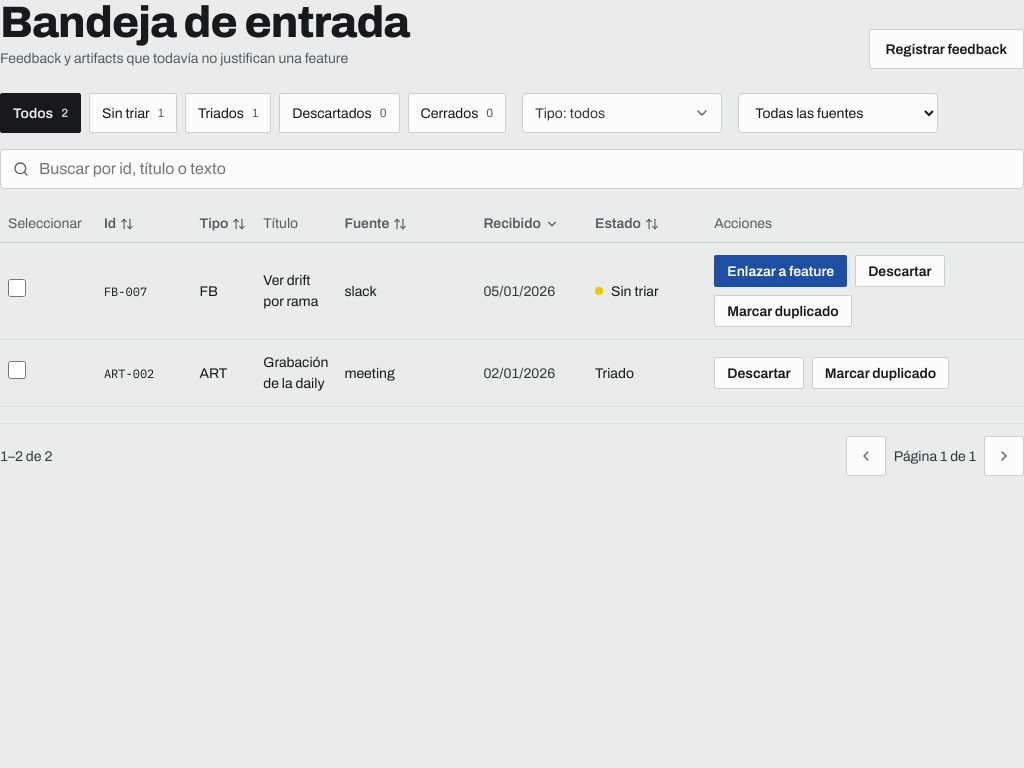
Test case: Entrada › triage › dismisses one row without a reason
Expected: the text "FB-007" is shown, [104,284,147,298]
Click the button with aria-label "Descartar FB-007" at (900, 271), box [855,255,945,287]
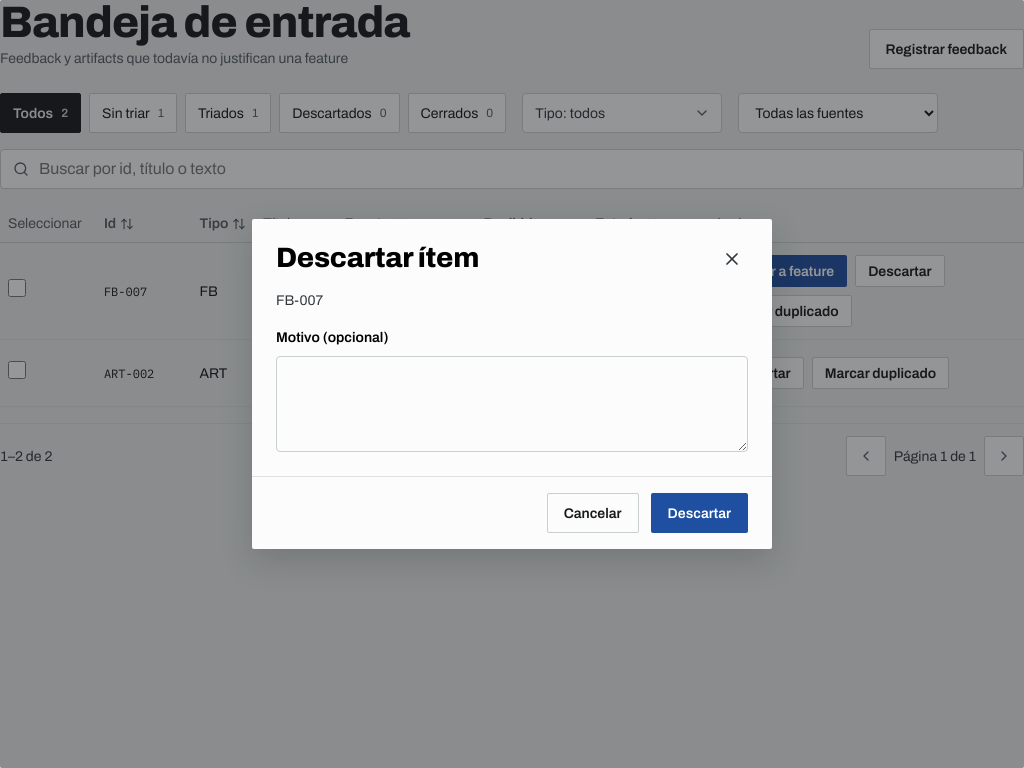
Click the button "Descartar" at (699, 513), box [651,493,748,533]
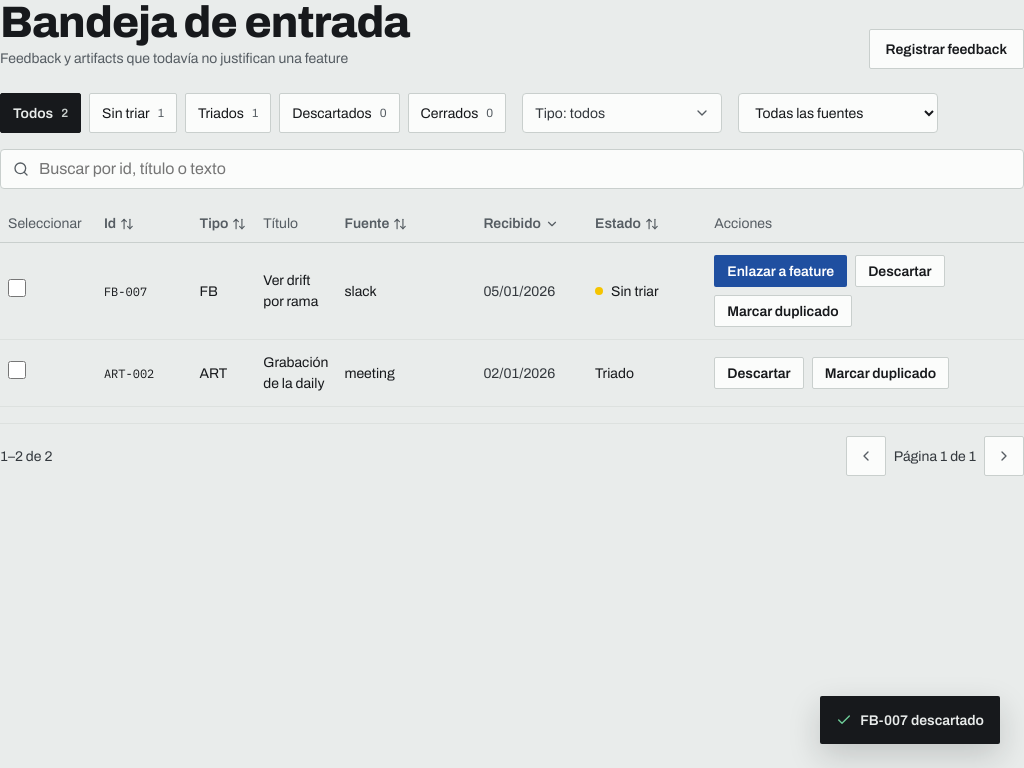
Expected: the text "FB-007 descartado" is shown, [820,696,1000,744]
